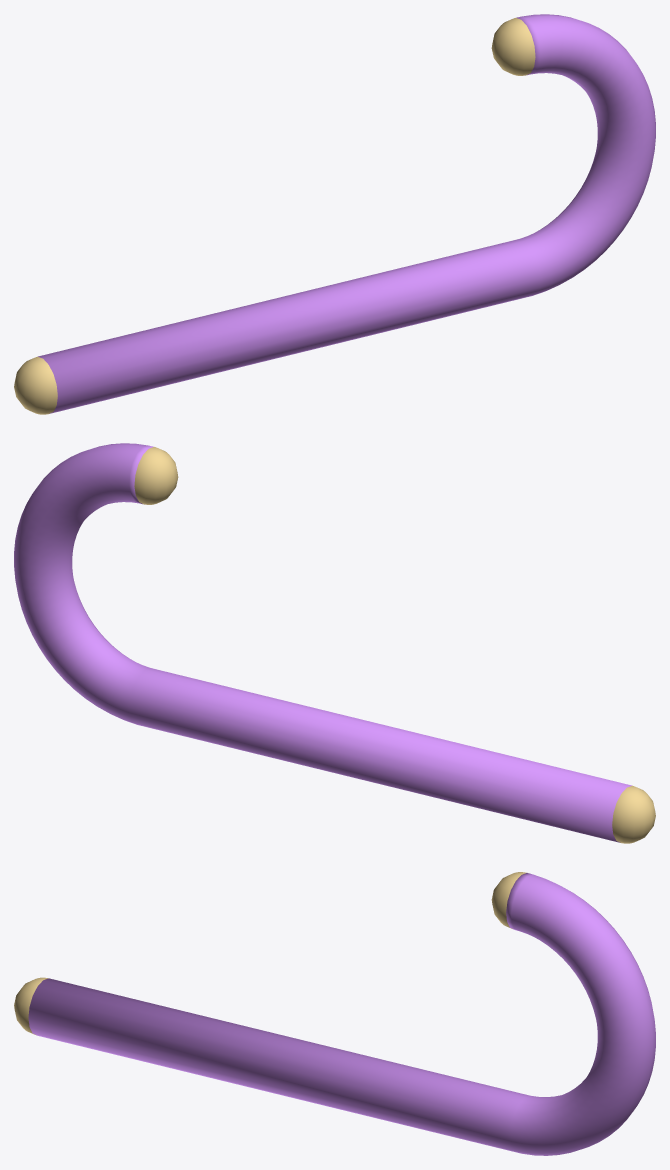
Rendered from cane-CMzJW3df.glb.
3 renders of one model, top to bottom at view 1: azimuth 30°, elevation 25°; view 2: azimuth 150°, elevation 25°; view 3: azimuth 330°, elevation 25°, orthographic.
Visible parts, largest first — view 1: R3D_cane_Body_0, R3D_cane_Tip_1, R3D_cane_Tip_0; view 2: R3D_cane_Body_0, R3D_cane_Tip_1, R3D_cane_Tip_0; view 3: R3D_cane_Body_0, R3D_cane_Tip_1, R3D_cane_Tip_0.
Part boxes in pixels (<box>): R3D_cane_Body_0: <box>38,14,655,413</box>; R3D_cane_Tip_1: <box>491,18,535,75</box>; R3D_cane_Tip_0: <box>14,356,57,414</box>; R3D_cane_Body_0: <box>14,443,631,842</box>; R3D_cane_Tip_1: <box>134,447,178,504</box>; R3D_cane_Tip_0: <box>612,785,655,843</box>; R3D_cane_Body_0: <box>28,873,655,1155</box>; R3D_cane_Tip_1: <box>491,872,526,928</box>; R3D_cane_Tip_0: <box>14,977,47,1035</box>.
Size of the model in its own units: 2.99 by 1.24 by 0.24.
